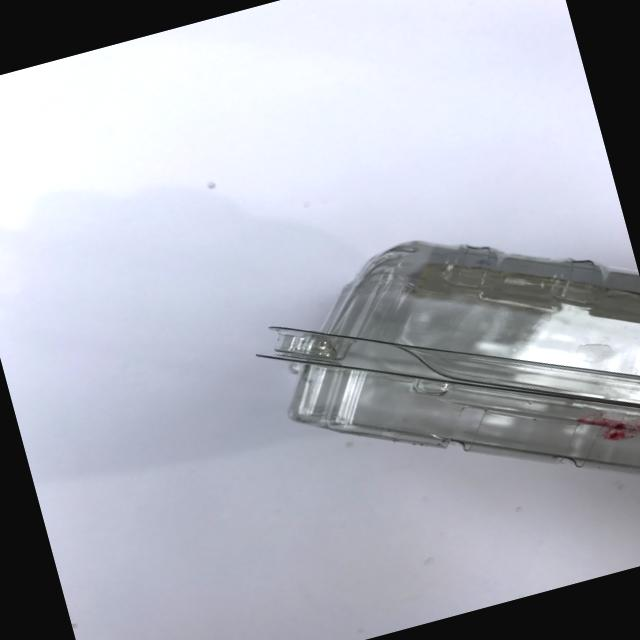Plastic: (198, 173, 640, 625)
